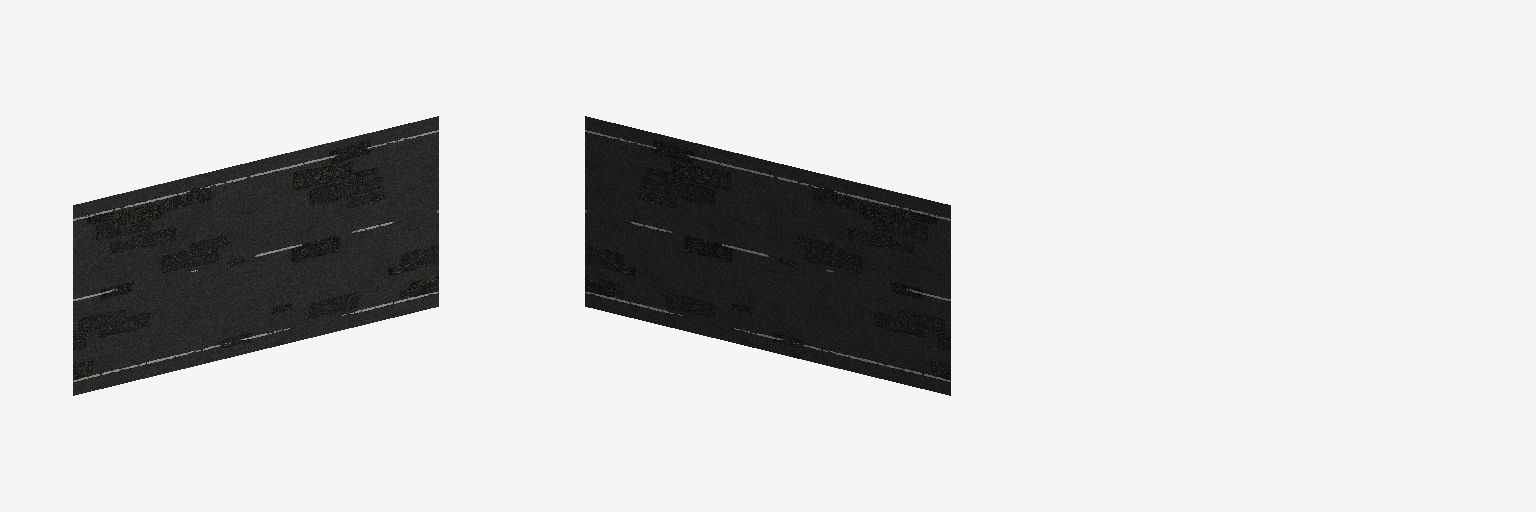
The picture shows the model from 3 angles: view 1: azimuth 30°, elevation 25°; view 2: azimuth 150°, elevation 25°; view 3: azimuth 270°, elevation 25°; orthographic projection.
Visible parts, largest first — view 1: Road003; view 2: Road003; view 3: none.
Part boxes in pixels (left/top/right/bottom): Road003: left=73, top=116, right=438, bottom=395; Road003: left=585, top=116, right=950, bottom=395.
Size of the model in its own units: 1.97 by 0.982 by 0.
Materials: 1 (1 with a texture image).